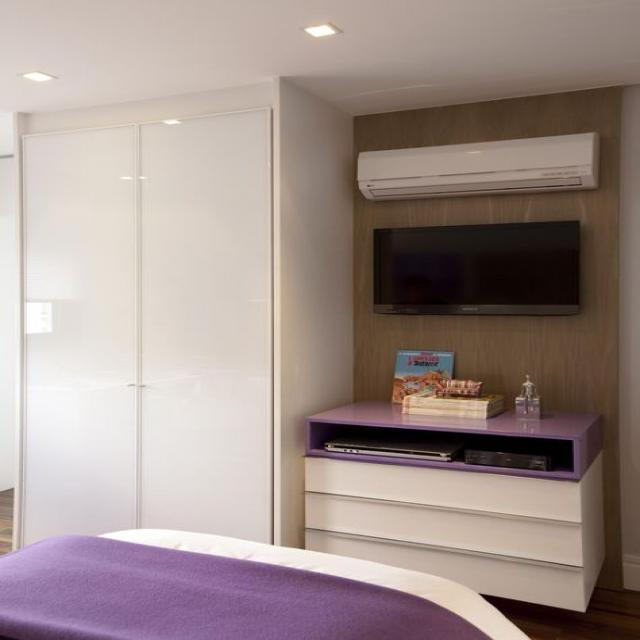AC: (356, 132, 599, 201)
AIO PC-Monitor-TV: (372, 218, 581, 316)
Lemari: (16, 104, 275, 554)
